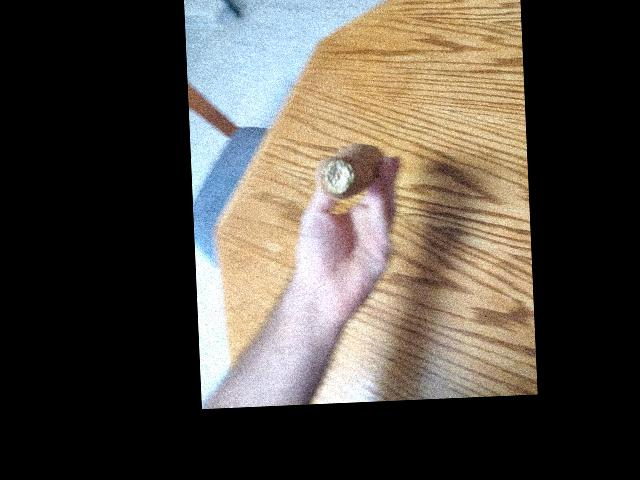sweet_potato: (306, 133, 389, 216)
